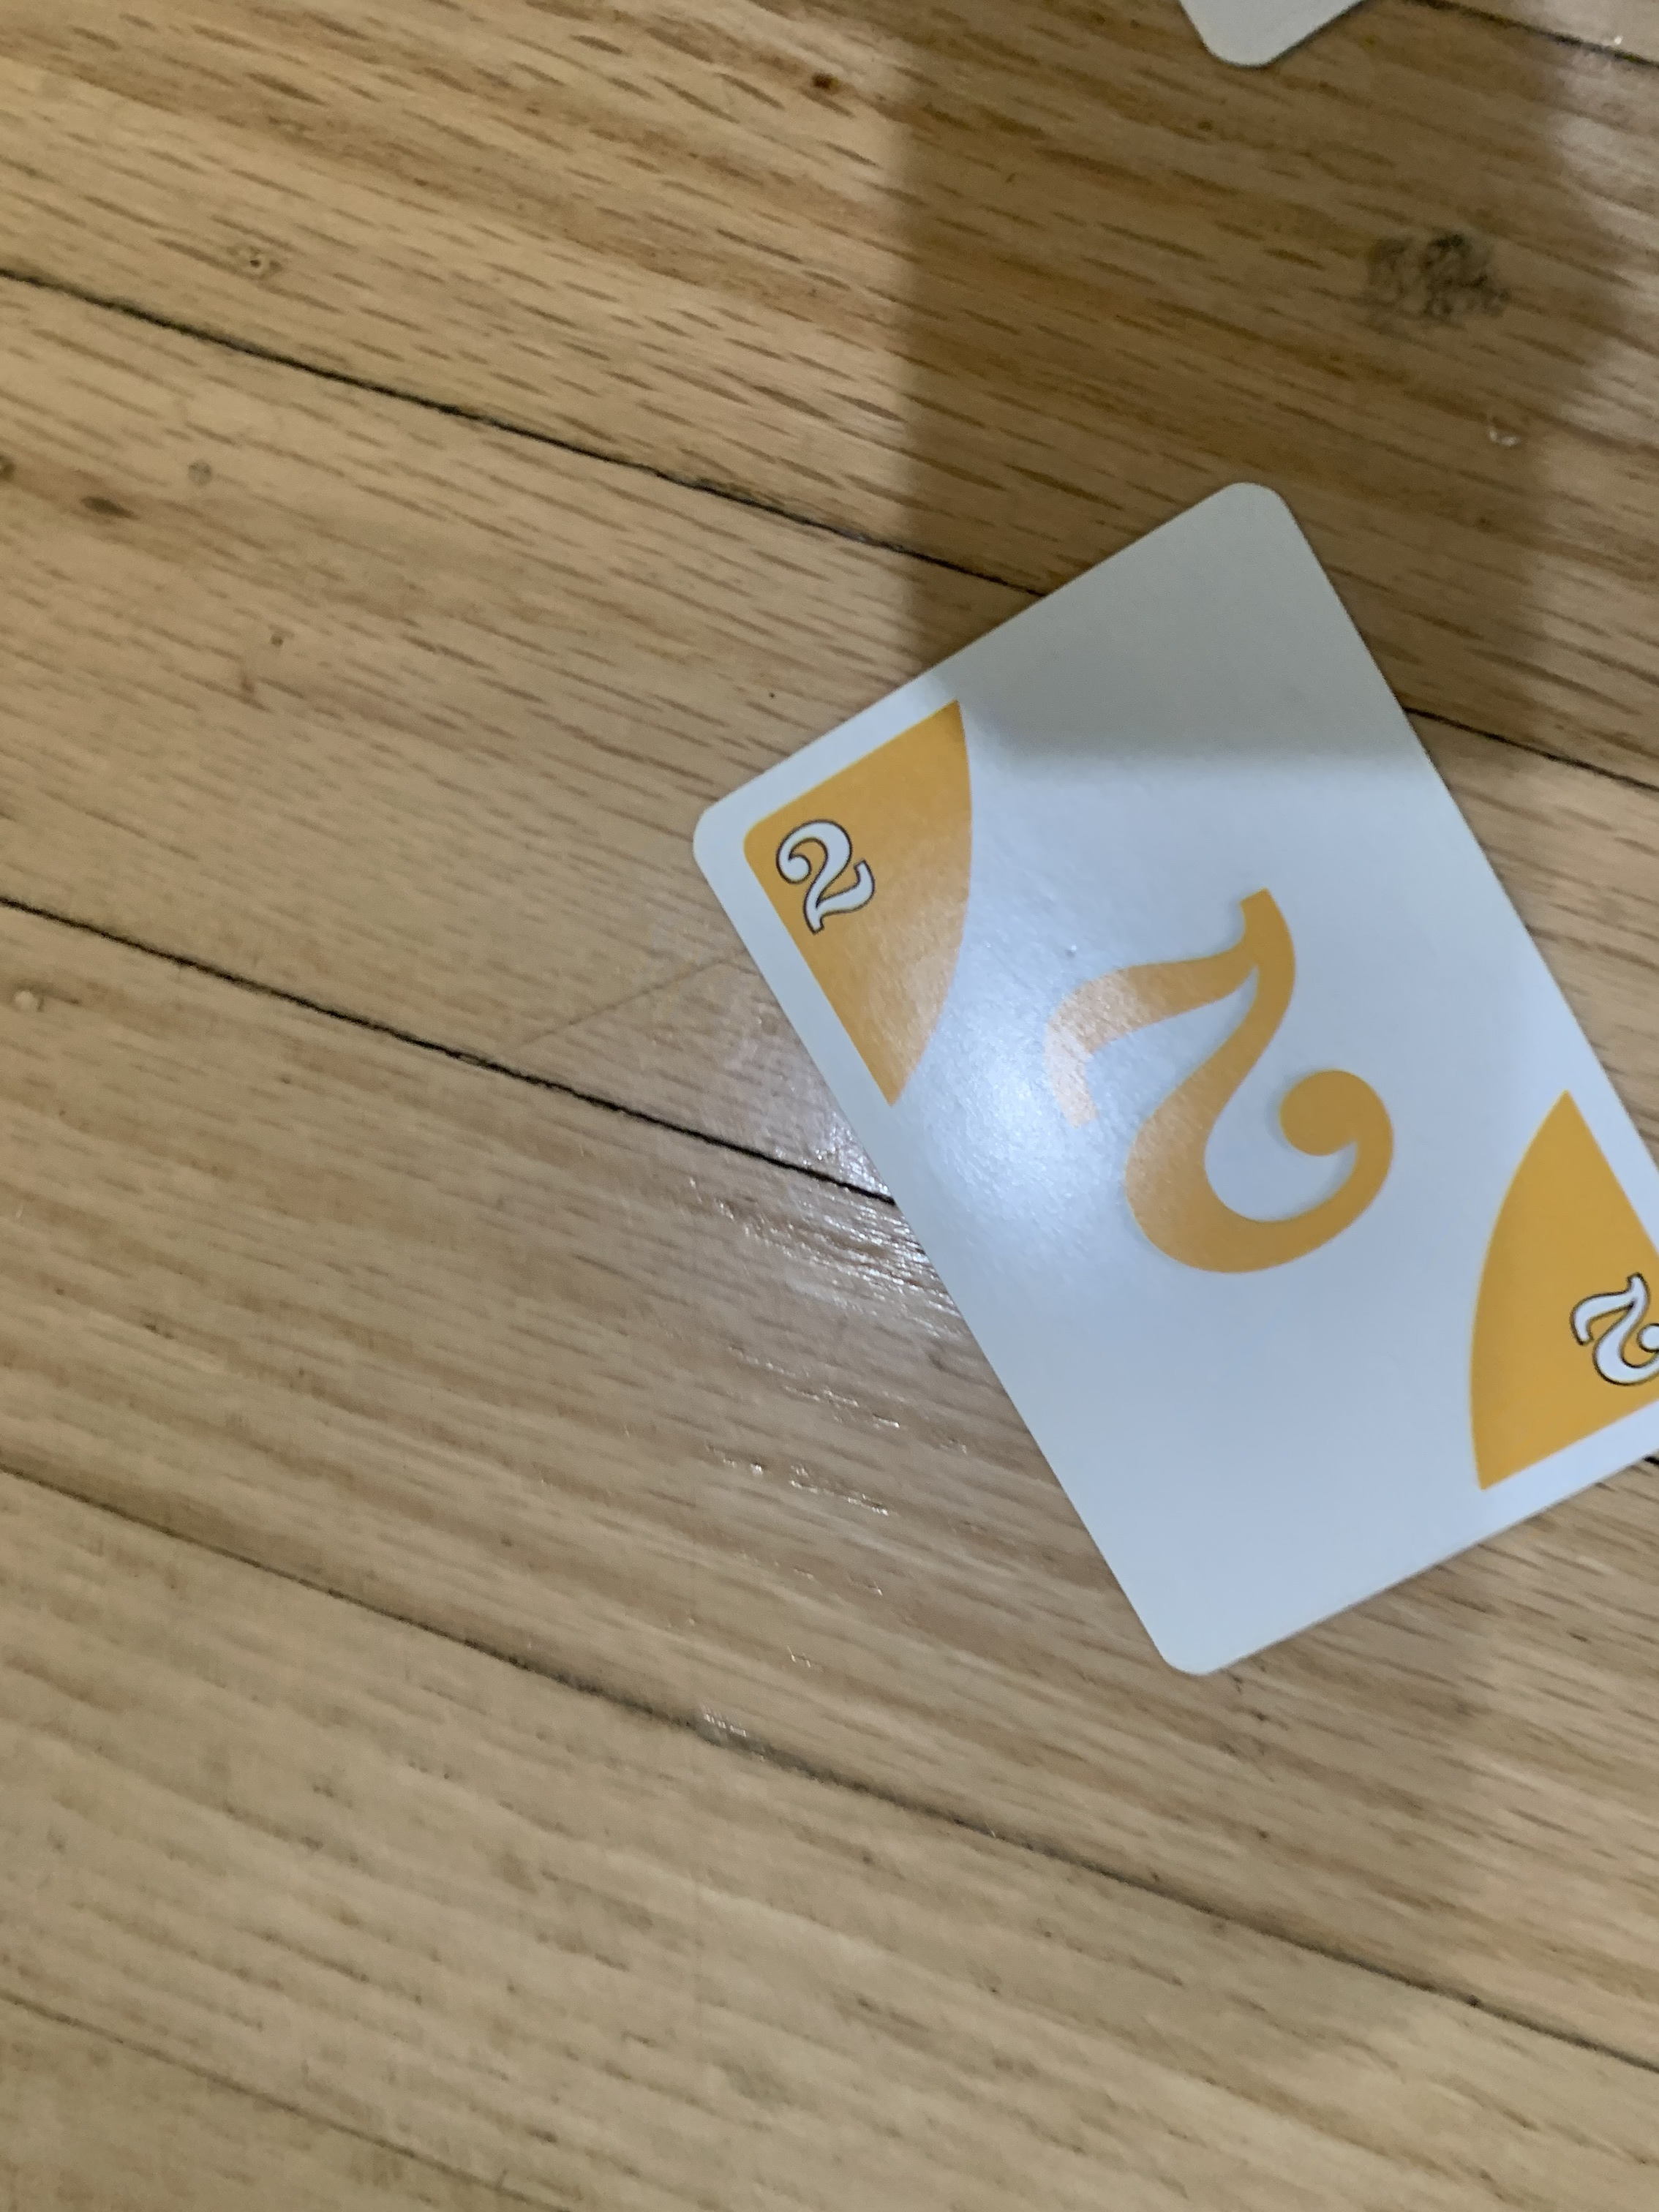two: (697, 472, 1659, 1700)
